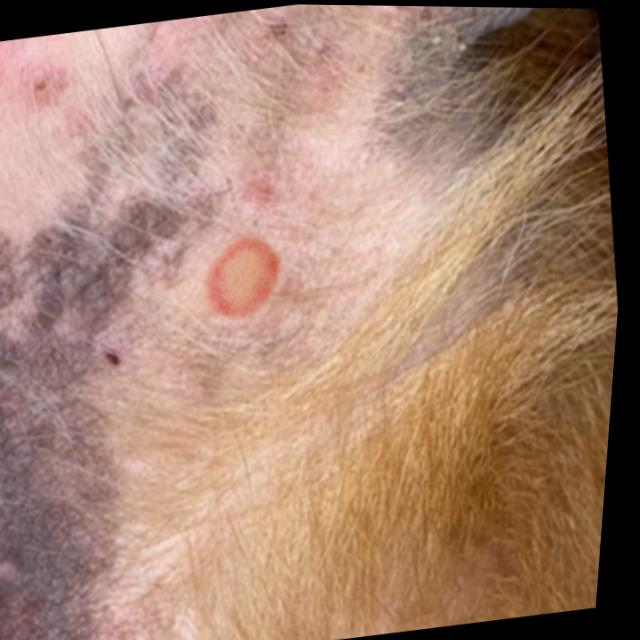ringworm: (174, 217, 318, 338)
